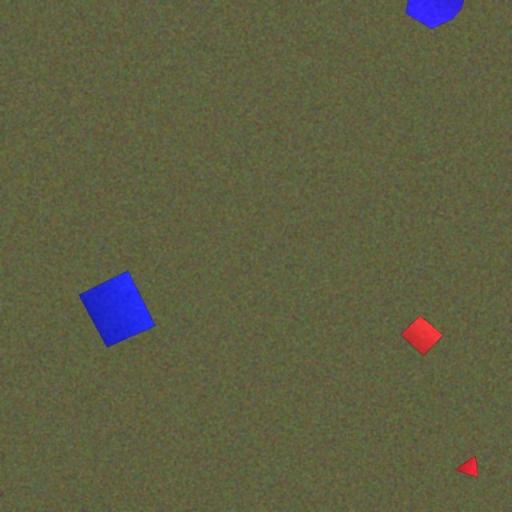BLUE_SQUARE: (78, 270, 157, 348)
RED_SQUARE: (400, 315, 444, 357)
